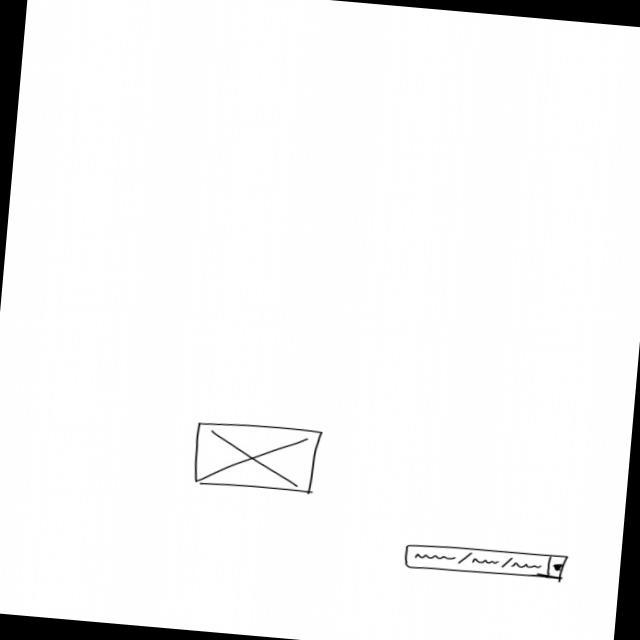image: (190, 419, 325, 498)
select: (403, 541, 570, 585)
